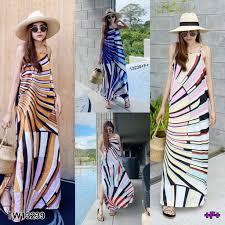dress: (8, 42, 62, 225), (161, 44, 211, 210), (99, 134, 134, 216), (97, 25, 131, 101)
